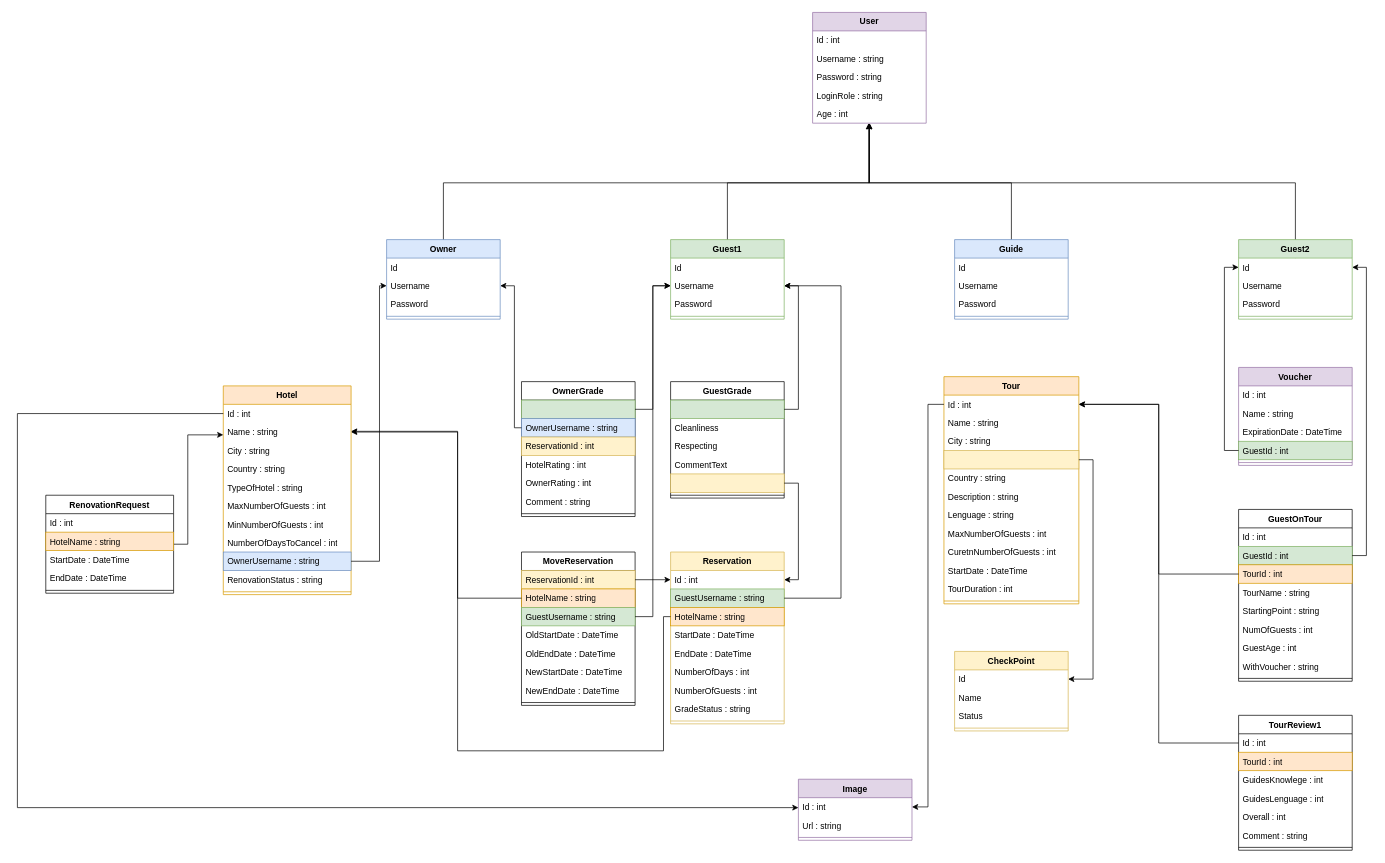
Some shapes in this 1385 by 863 pixel diagram are drawn without their labels. Each missing label, with the centre of its shape:
CheckPoints : List<CheckPoint>: (x=1011, y=459)
Guest1Username : string: (x=578, y=409)
GuestUsername: (x=727, y=409)
ResevationId: (x=727, y=482)
